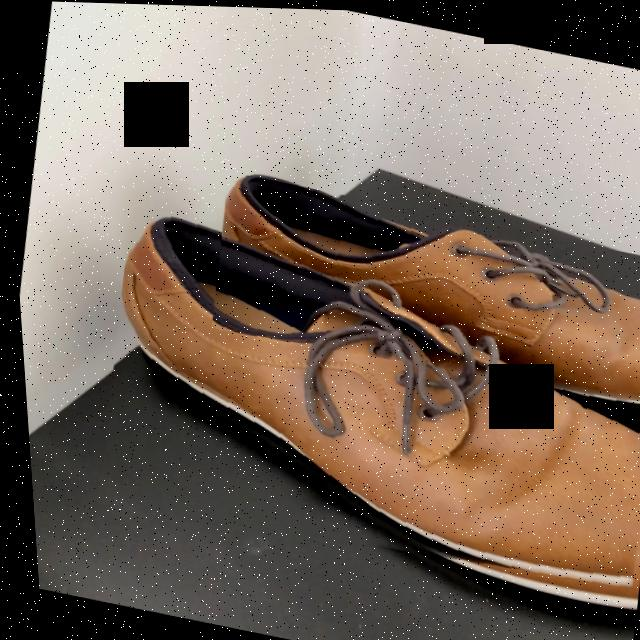shoe: (117, 218, 640, 588), (221, 175, 640, 399)
